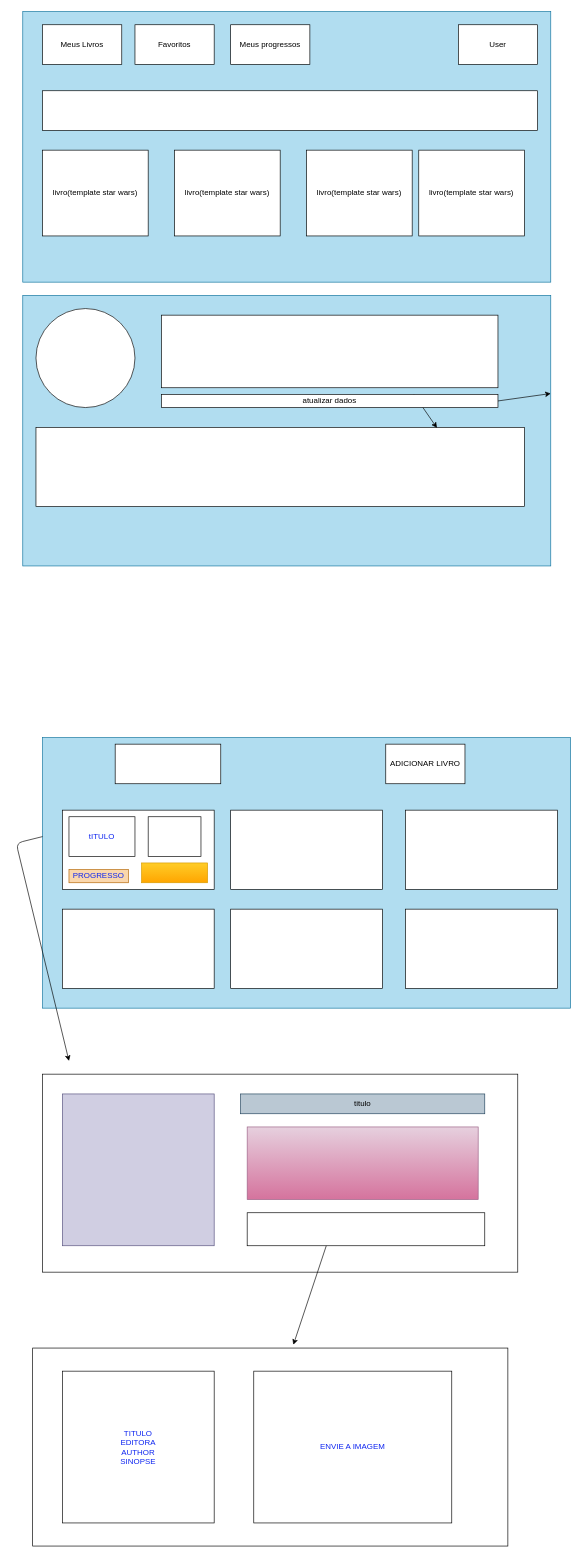
Some shapes in this 582 by 1558 pixel diagram are drawn without their labels. The box of each missing label's shape, as (x1, y1, x2, y2) in pixels:
Bio: (35, 427, 524, 507)
Citação Da semana: (42, 90, 538, 130)
DESCRIÇÃO: (247, 1126, 478, 1200)
EDITAR PROGRESSO E NOTA EXCLUIR: (247, 1212, 485, 1246)
FOTO: (148, 816, 201, 856)
MEus liVEOS: (115, 743, 221, 784)
Nome e dados: (161, 314, 498, 388)
NOTA: (141, 862, 208, 883)
